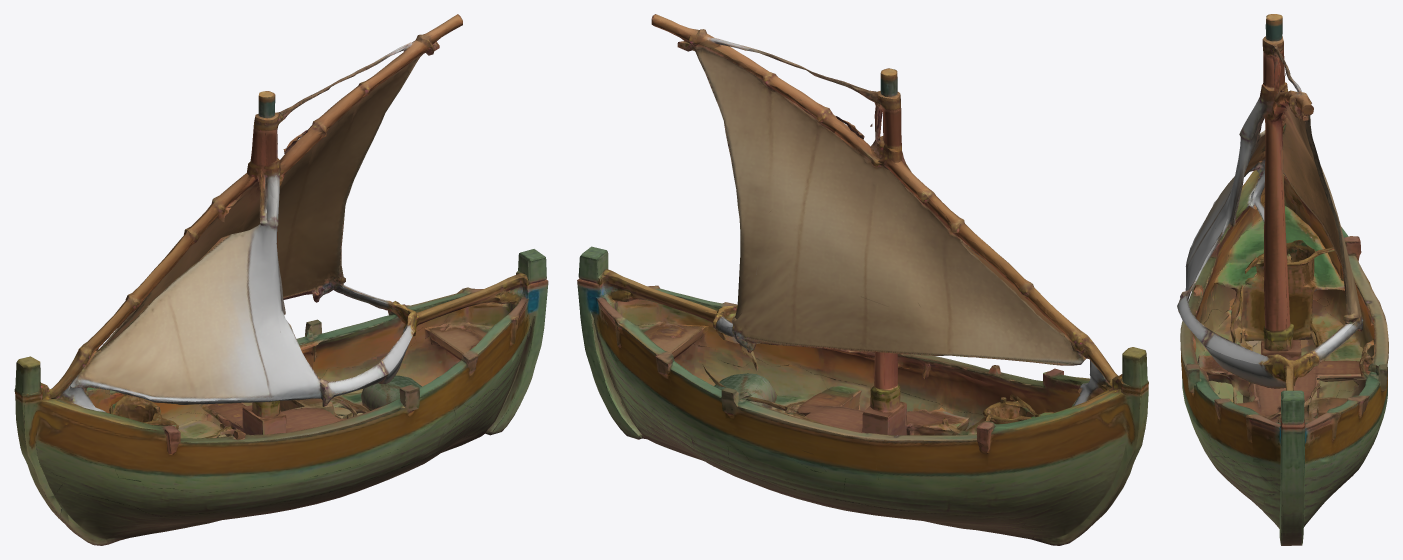
File: boat_felucca.glb
3 views of the same model, side by side, from view 1: azimuth 30°, elevation 25°; view 2: azimuth 150°, elevation 25°; view 3: azimuth 270°, elevation 25° (orthographic). The views are drawn at different scales.
Parts seen in each view (by area): view 1: geometry_0; view 2: geometry_0; view 3: geometry_0.
Part boxes in pixels (x1,y1,x2,y2): geometry_0: [14, 14, 548, 545]; geometry_0: [577, 14, 1148, 545]; geometry_0: [1177, 14, 1388, 545].
Size of the model in its own units: 7 by 5.46 by 2.34.
1 material, 1 textured.
